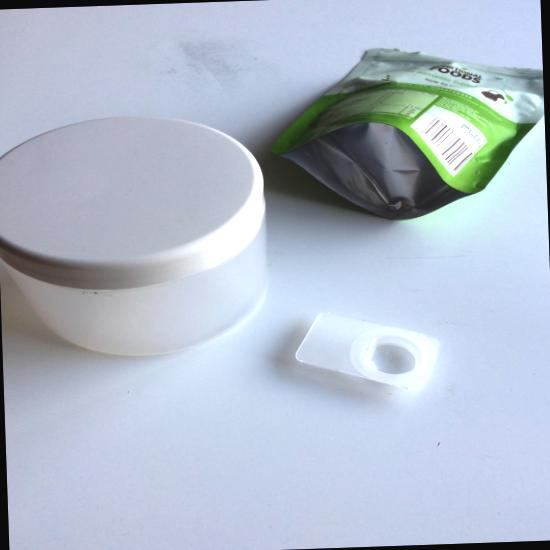Other plastic: (269, 48, 545, 220)
Other plastic cup: (295, 312, 443, 391)
Tupperware: (0, 116, 268, 356)
